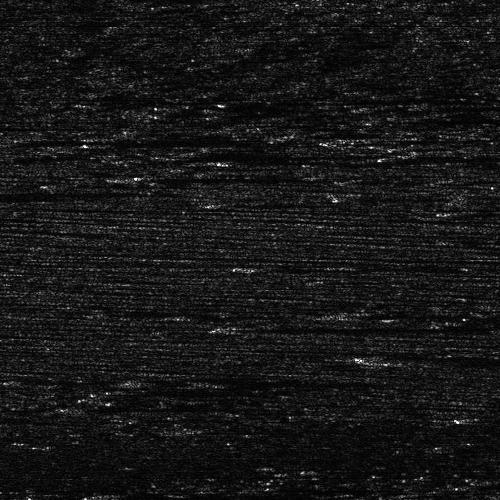object: (142, 148, 183, 161), (0, 136, 59, 145), (83, 490, 124, 499), (66, 406, 119, 411)
shadow: (27, 136, 468, 145), (163, 148, 463, 161), (104, 490, 255, 499), (93, 406, 242, 411)
